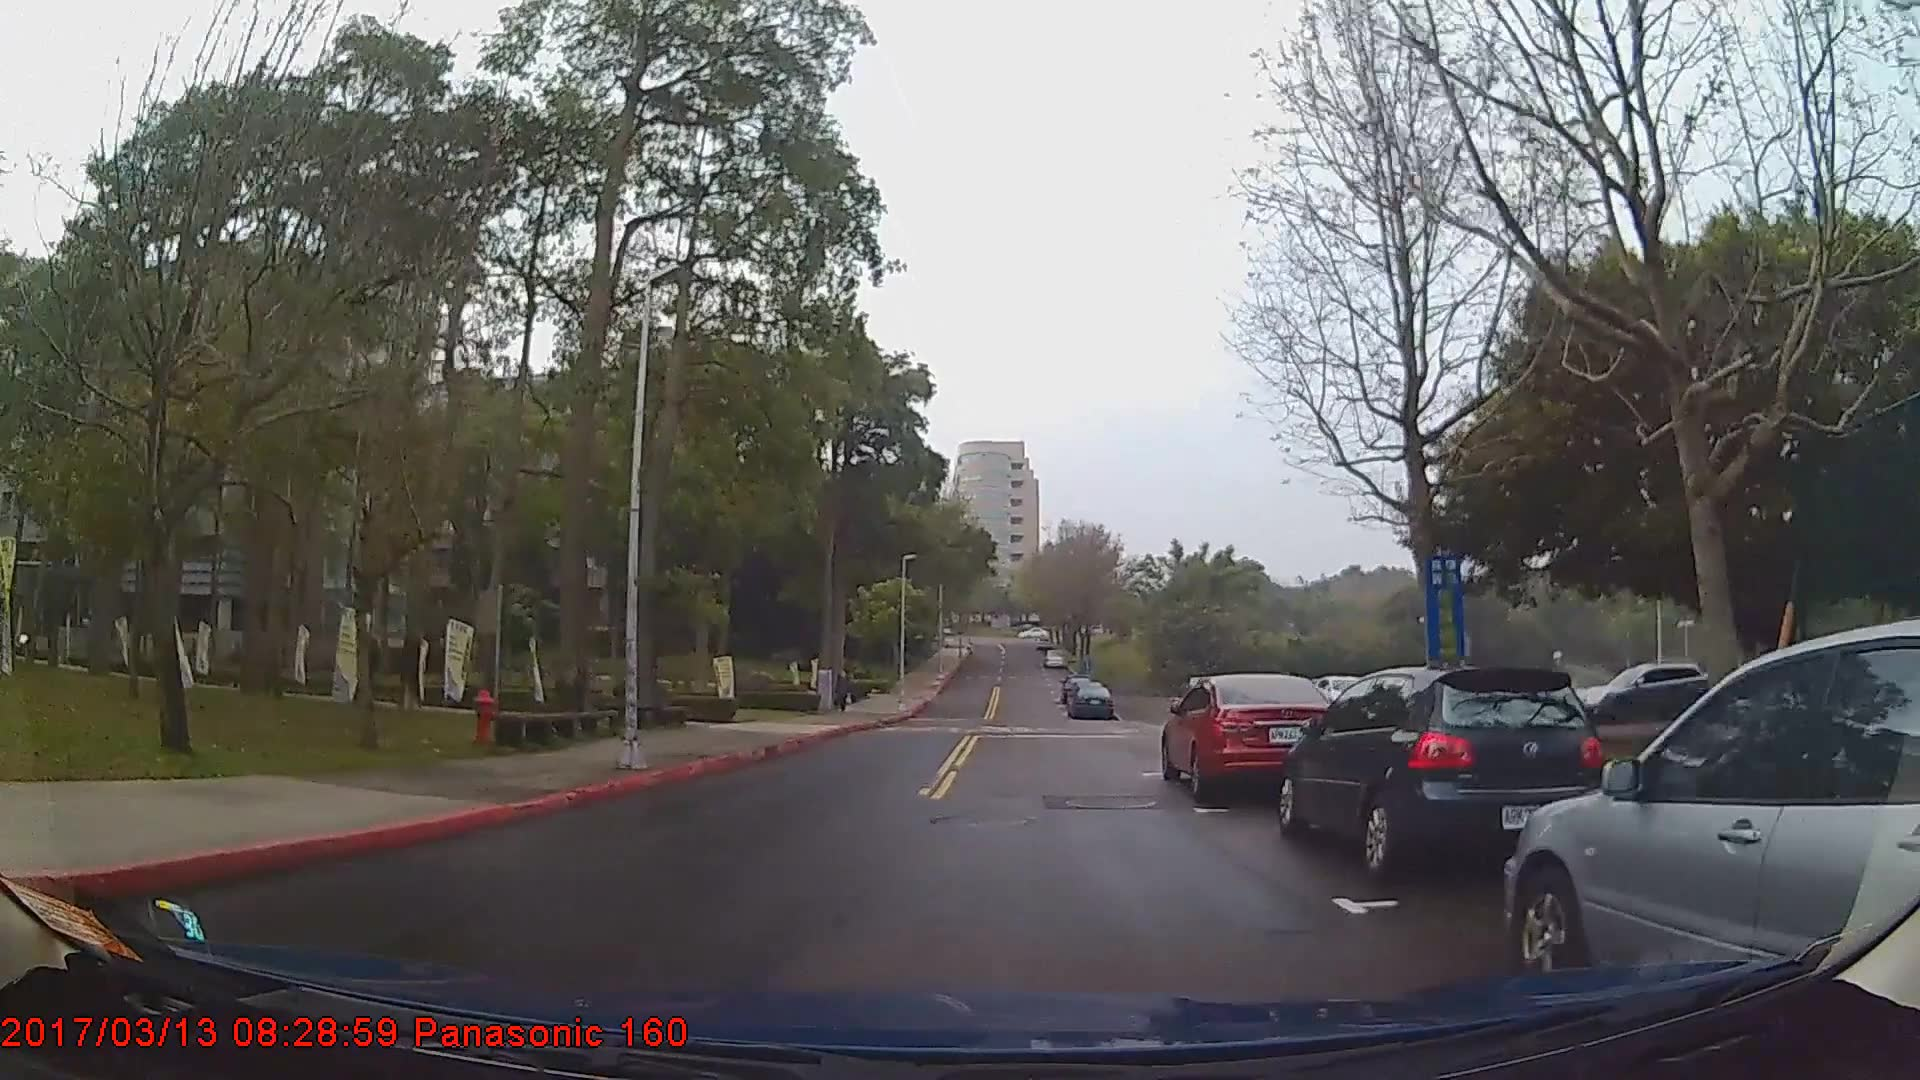vehicle: (1501, 616, 1920, 984), (1276, 669, 1598, 877), (1159, 676, 1338, 804), (1578, 662, 1717, 725), (1065, 683, 1116, 723)
